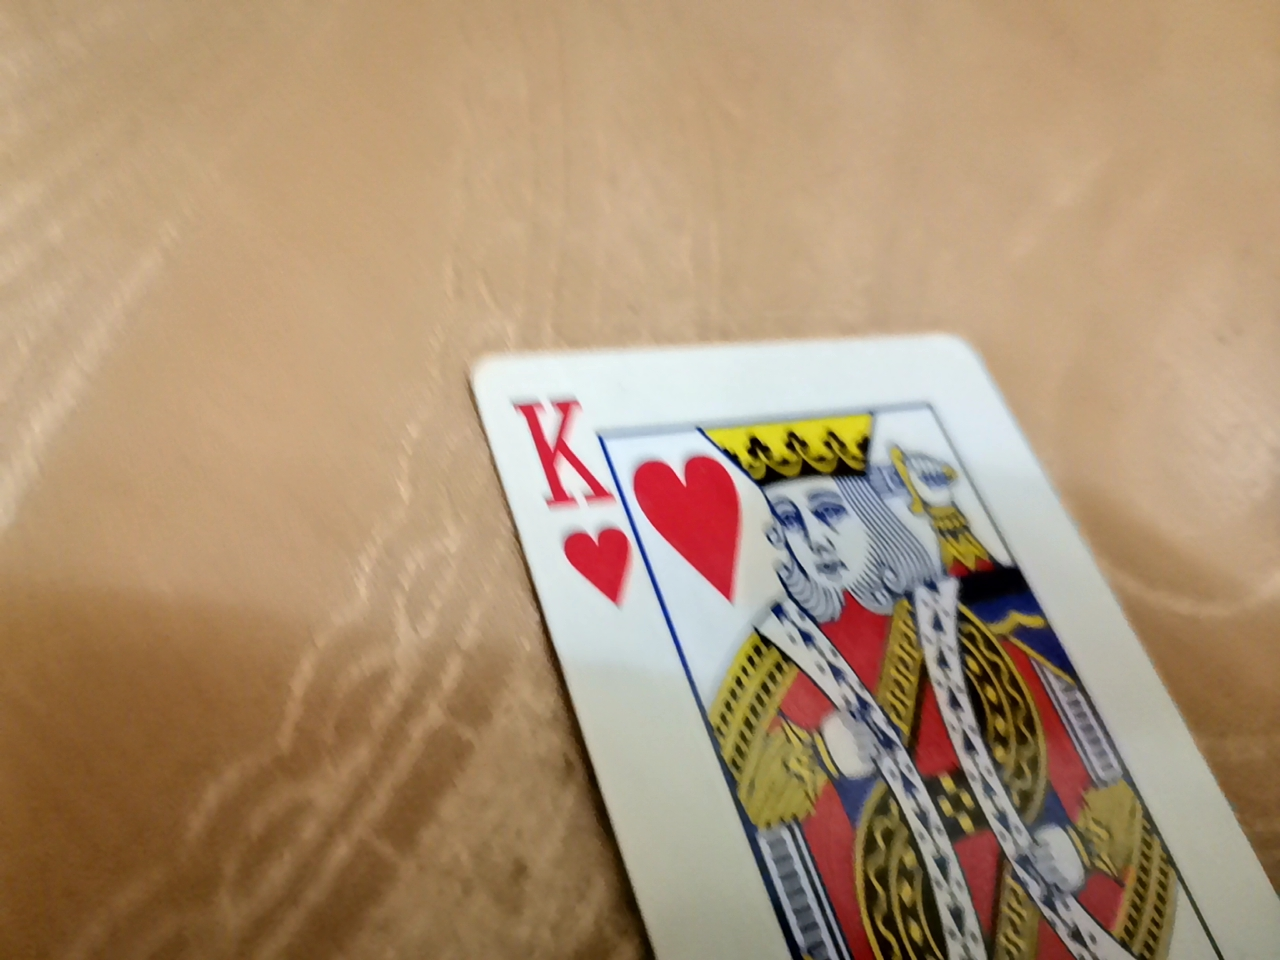hx k: (391, 213, 1261, 956)
